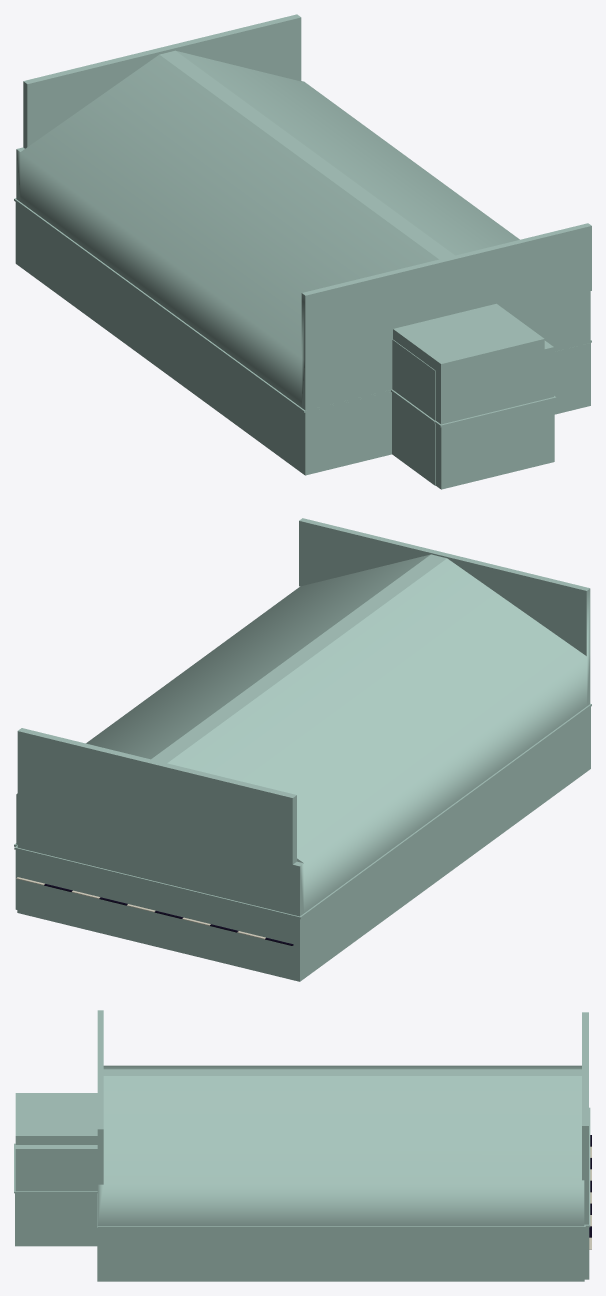
File: greenhouse.fbx
3 renders of one model, top to bottom at view 1: azimuth 30°, elevation 25°; view 2: azimuth 150°, elevation 25°; view 3: azimuth 270°, elevation 25°, orthographic. The views are drawn at different scales.
Parts seen in each view (by area): view 1: pCube108; view 2: pCube108; view 3: pCube108.
Boxes of the visible parts, x1,y1,x2,y2 form: pCube108: [14, 14, 591, 489]; pCube108: [14, 518, 591, 981]; pCube108: [14, 1010, 590, 1281].
Bounding box in the file's own units: 10.64 × 6.39 × 21.75.
